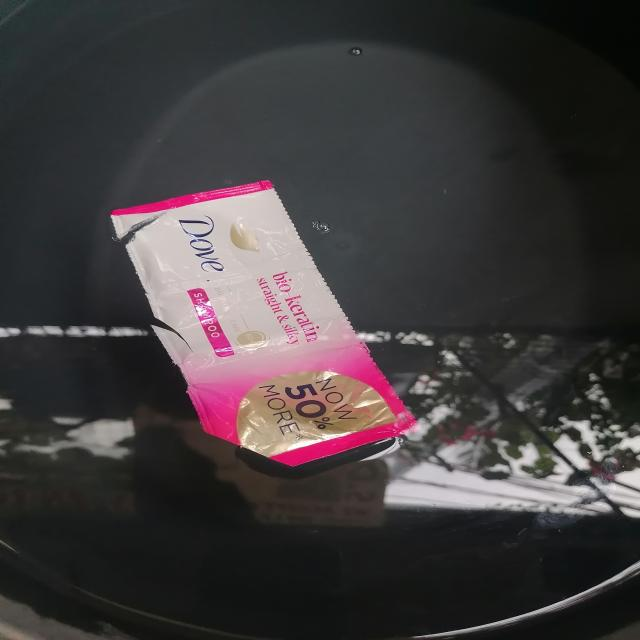Plastic Wrapper: (88, 169, 440, 483)
